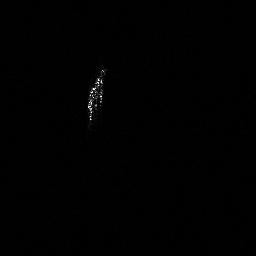ship: (84, 64, 108, 123)
